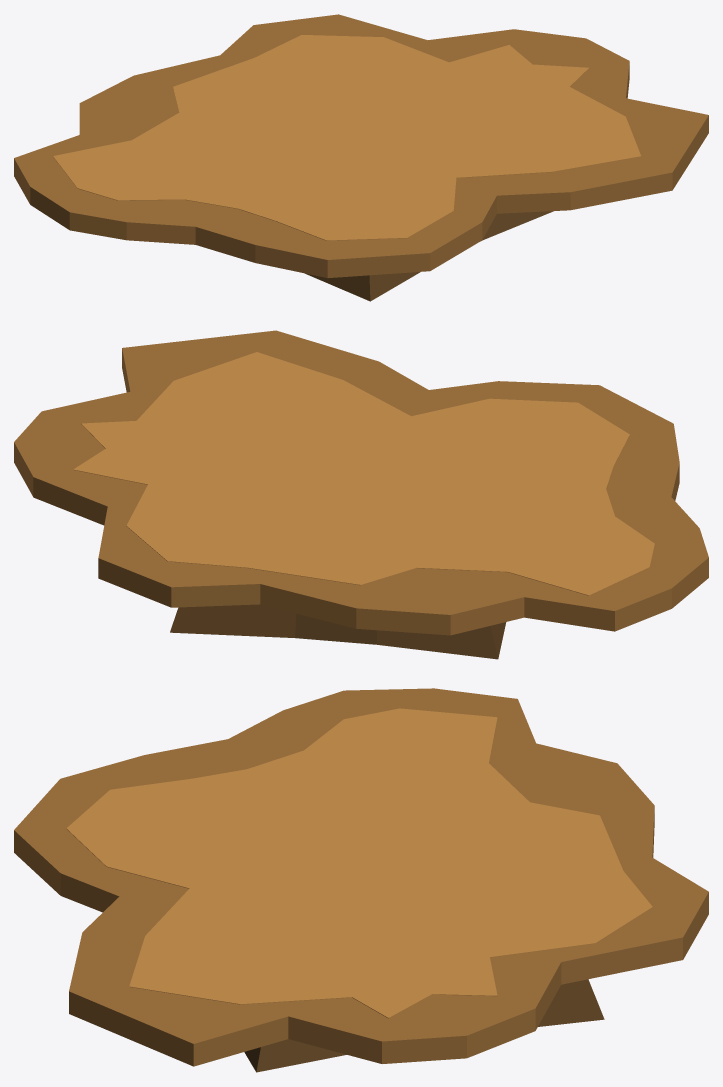
File: lv3centerTable.glb
3 renders of one model, top to bottom at view 1: azimuth 30°, elevation 25°; view 2: azimuth 150°, elevation 25°; view 3: azimuth 270°, elevation 25°, orthographic. The views are drawn at different scales.
Visible parts, largest first — view 1: Circle.002, Circle.001, Cylinder; view 2: Circle.002, Circle.001, Cylinder; view 3: Circle.002, Circle.001, Cylinder.
Part boxes in pixels (x1,y1,x2,y2): Circle.002: (53, 35, 641, 240); Circle.001: (14, 14, 708, 277); Cylinder: (305, 211, 553, 301); Circle.002: (73, 352, 654, 595); Circle.001: (14, 330, 708, 635); Cylinder: (170, 604, 506, 659); Circle.002: (66, 708, 652, 1018); Circle.001: (14, 688, 708, 1066); Cylinder: (244, 979, 604, 1072).
Size of the model in its own units: 6.7 by 0.8966 by 5.53.
